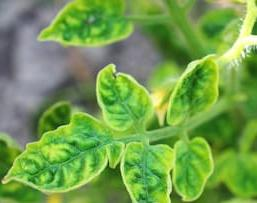Tomato leaf yellow virus: (0, 118, 120, 197), (12, 0, 132, 57), (88, 60, 151, 137), (115, 132, 177, 203), (173, 45, 222, 131)
